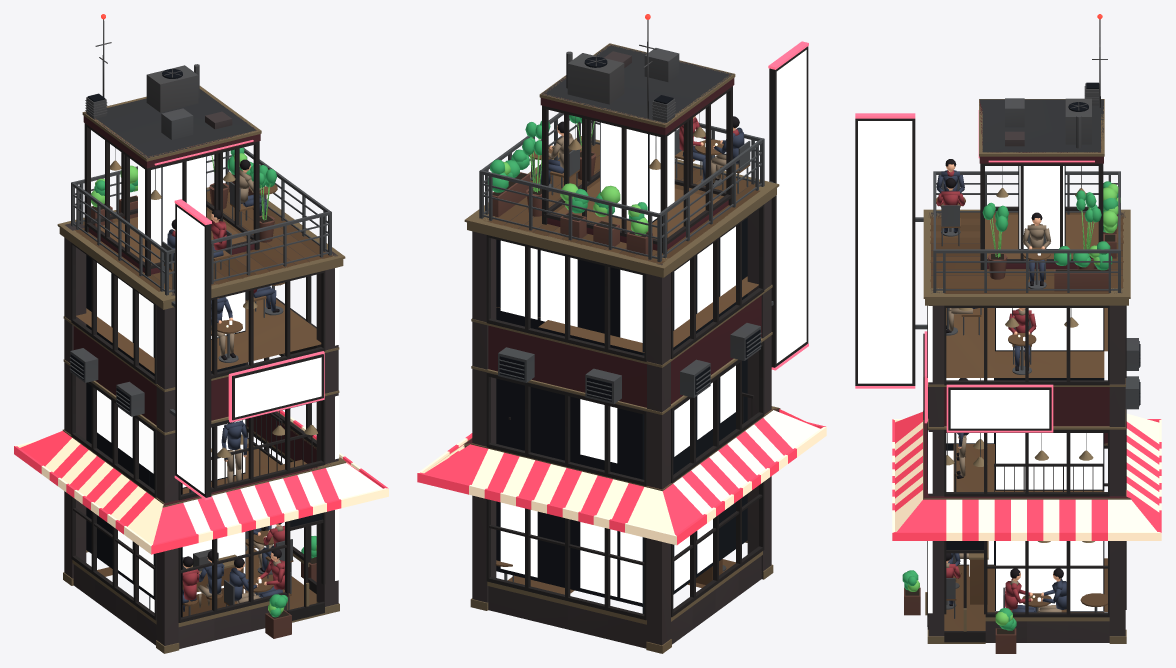
The model's file is kuro264.glb.
3 renders of one model, left to right at view 1: azimuth 30°, elevation 25°; view 2: azimuth 150°, elevation 25°; view 3: azimuth 270°, elevation 25°, orthographic. The views are drawn at different scales.
Parts seen in each view (by area): view 1: k264-frame, k264-wall, k264-steel, k264-wood, k264-trim, k264-awnA, k264-awnB, k264-blade, k264-room2, k264-wall2, k264-dark, k264-roof (+13 smaller); view 2: k264-frame, k264-wall, k264-dark, k264-steel, k264-room2, k264-awnB, k264-awnA, k264-trim, k264-wall2, k264-blade, k264-wood, k264-room1 (+7 smaller); view 3: k264-wood, k264-frame, k264-blade, k264-wall, k264-steel, k264-awnA, k264-awnB, k264-trim, k264-room2, k264-shop, k264-wall2, k264-roof (+13 smaller).
Part boxes in pixels (x1=…): k264-frame: x1=71, y1=123, x2=325, y2=622; k264-wall: x1=64, y1=111, x2=338, y2=648; k264-steel: x1=69, y1=19, x2=331, y2=615; k264-wood: x1=75, y1=184, x2=332, y2=616; k264-trim: x1=57, y1=86, x2=346, y2=653; k264-awnA: x1=14, y1=410, x2=388, y2=554; k264-awnB: x1=15, y1=416, x2=388, y2=554; k264-blade: x1=177, y1=207, x2=204, y2=493; k264-room2: x1=97, y1=156, x2=245, y2=595; k264-wall2: x1=64, y1=112, x2=330, y2=505; k264-dark: x1=70, y1=69, x2=322, y2=617; k264-roof: x1=84, y1=89, x2=256, y2=158; k264-frame: x1=486, y1=46, x2=808, y2=620; k264-wall: x1=472, y1=51, x2=771, y2=648; k264-dark: x1=496, y1=56, x2=760, y2=613; k264-steel: x1=479, y1=20, x2=773, y2=581; k264-room2: x1=500, y1=122, x2=735, y2=603; k264-awnB: x1=418, y1=410, x2=826, y2=545; k264-awnA: x1=417, y1=409, x2=825, y2=544; k264-trim: x1=463, y1=43, x2=780, y2=653; k264-wall2: x1=464, y1=44, x2=779, y2=489; k264-blade: x1=776, y1=50, x2=806, y2=363; k264-wood: x1=481, y1=139, x2=759, y2=594; k264-room1: x1=500, y1=226, x2=735, y2=590; k264-wood: x1=930, y1=197, x2=1123, y2=630; k264-frame: x1=855, y1=118, x2=1126, y2=642; k264-blade: x1=858, y1=121, x2=912, y2=383; k264-wall: x1=928, y1=131, x2=1125, y2=642; k264-steel: x1=915, y1=19, x2=1140, y2=618; k264-awnA: x1=892, y1=412, x2=1161, y2=540; k264-awnB: x1=892, y1=413, x2=1161, y2=540; k264-trim: x1=923, y1=99, x2=1131, y2=643; k264-room2: x1=996, y1=166, x2=1103, y2=489; k264-shop: x1=946, y1=450, x2=1103, y2=610; k264-wall2: x1=923, y1=100, x2=1129, y2=498; k264-roof: x1=979, y1=99, x2=1103, y2=152.
Bounding box in the file's own units: 5.47 × 12.52 × 6.22.
